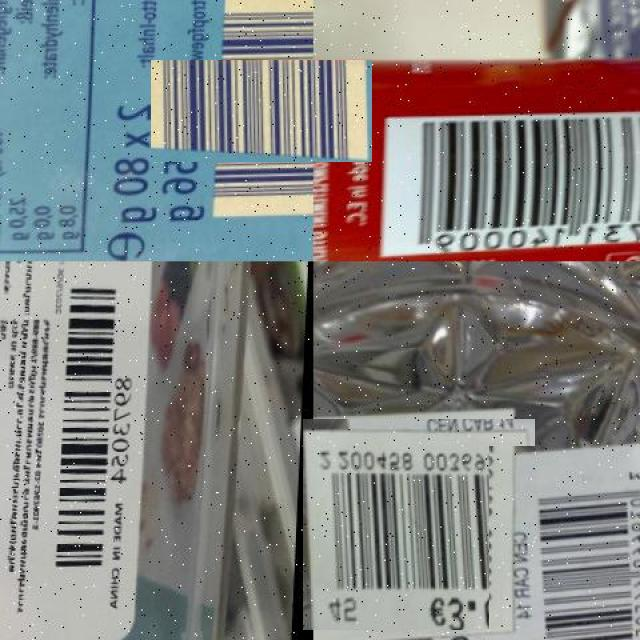Barcode: (308, 413, 530, 635), (382, 109, 640, 254), (489, 446, 639, 640), (53, 275, 139, 585), (180, 30, 342, 192)
